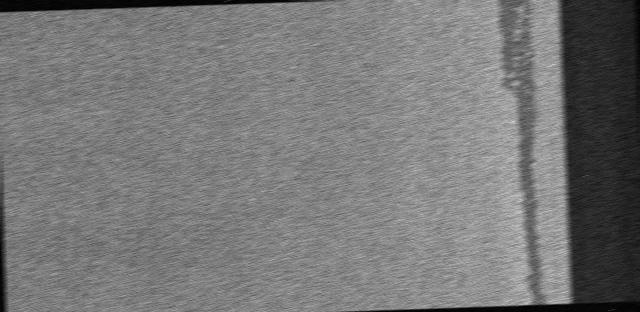oil_spot: (487, 0, 552, 306)
